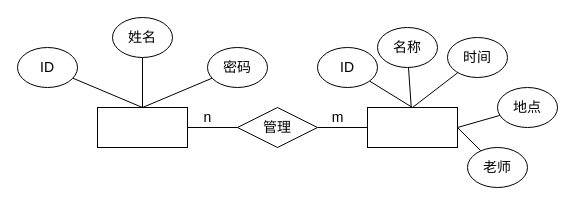
The diagram is 575 pixels wide and 205 high, and some of its shapes have lost their labels. The shapes that lost their labels are listed below. From the top down, each one's centre as x and y in pixels, then its label:
[142,127]: 管理员
[412,127]: 课程
